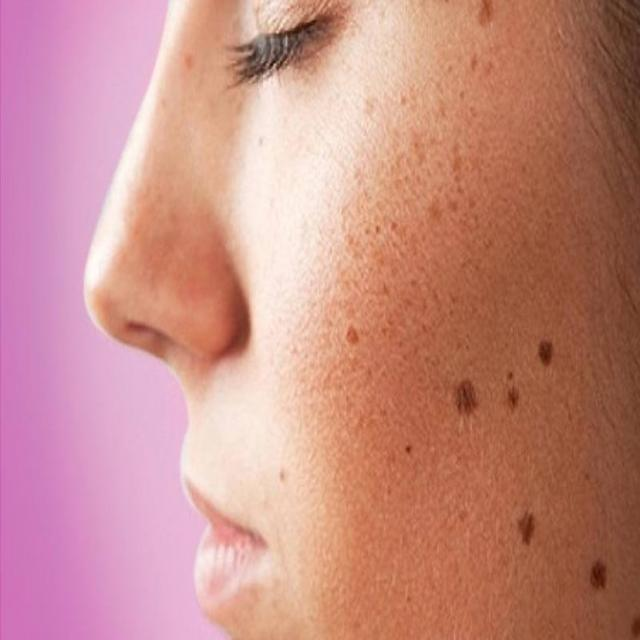Dark-Spots: (330, 0, 640, 640)
